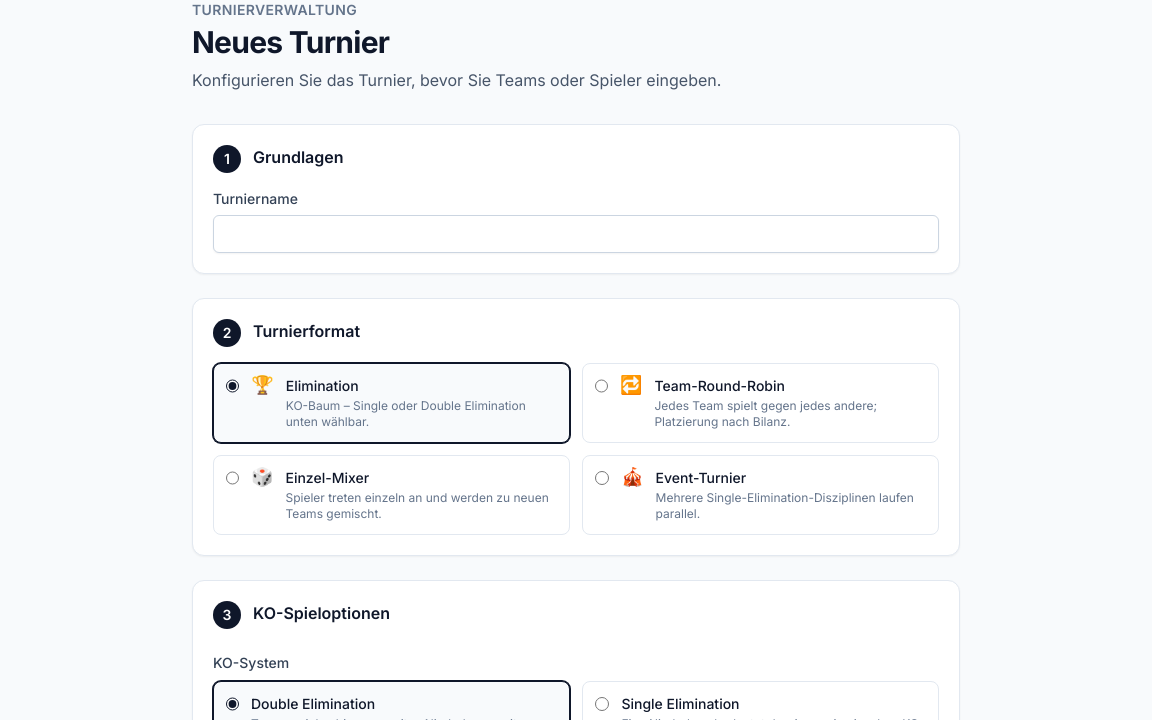
Scenario: frontend localization › translates creation form labels and status badges
Check: the heading "Neues Turnier" is shown, box [192,24,389,60]
Check: the heading "Turnierformat" is shown, box [253,319,360,343]
Click the radio button labelled "Team-Round-Robin": (602, 386) [595,378,608,394]
(page scrolled)
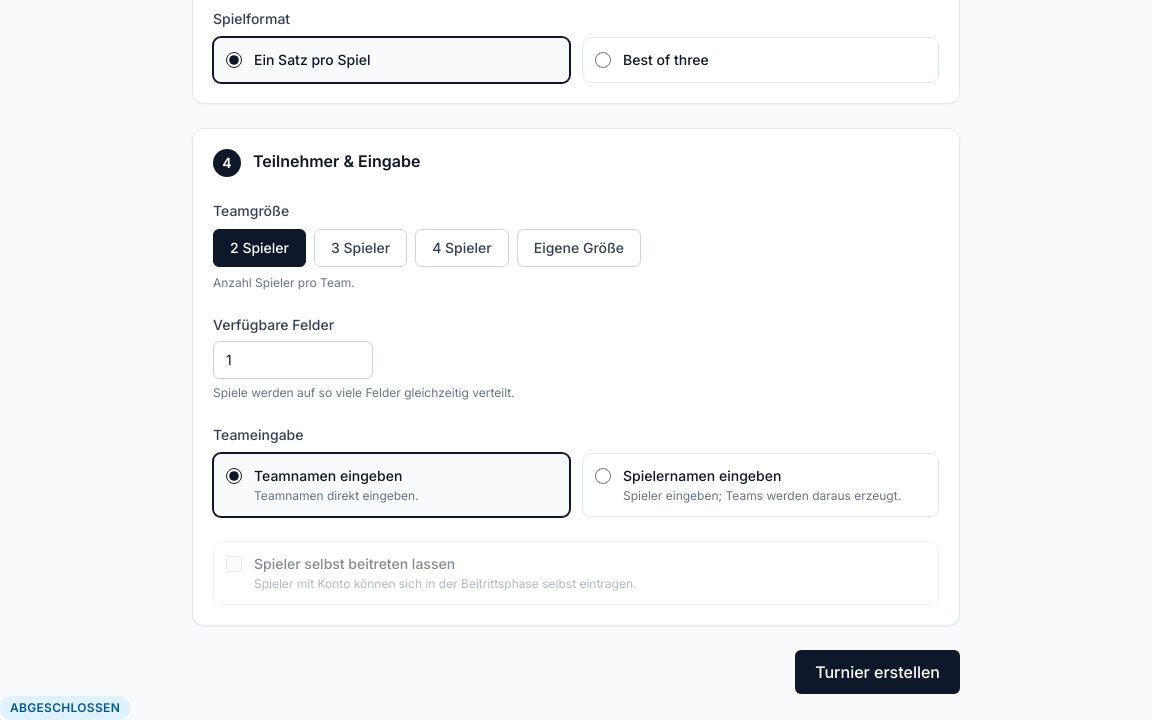
Check: the text "Abgeschlossen" is shown, box [0,696,130,719]
Check: the text "Ein Satz pro Spiel" is shown, box [254,50,370,70]
Check: the text "Best of three" is shown, box [623,50,709,70]
